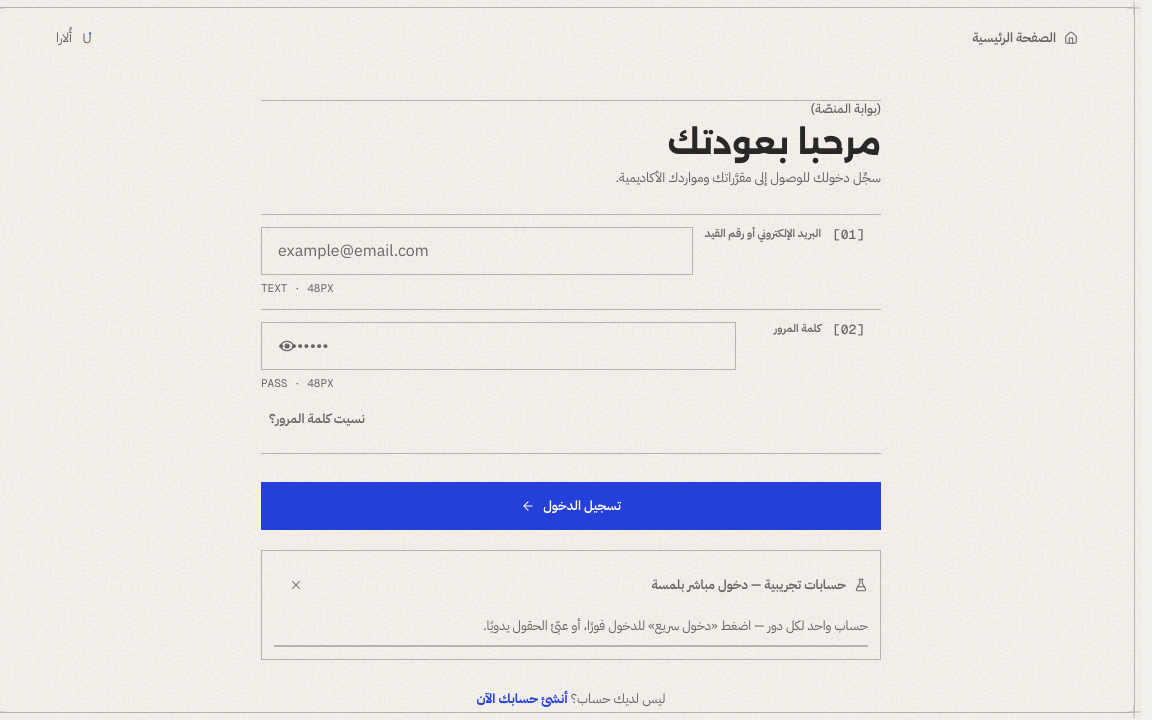
Test: AuthPage — journey alignment (imm-5) › the password visibility toggle flips type, pressed state and label
The width and height of the screenshot is (1152, 720).
Click the button named "إظهار كلمة المرور": click(287, 346) top-left (265, 324), bottom-right (309, 368)
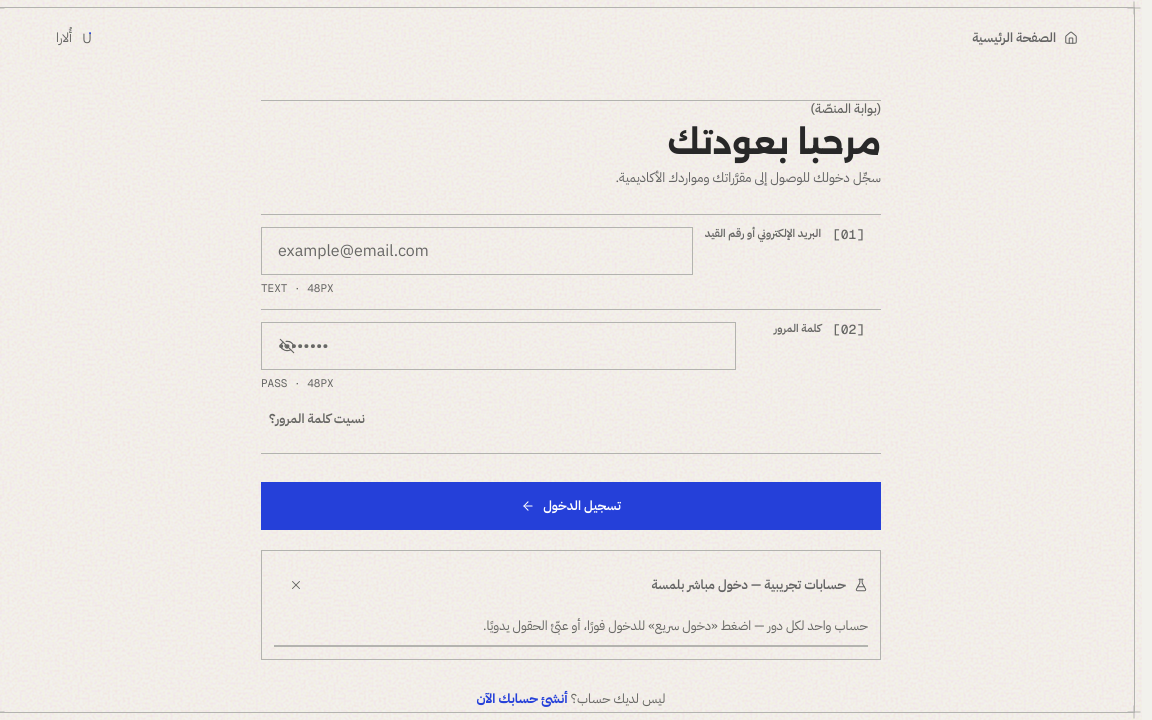
Check: the button named "إظهار كلمة المرور" is pressed, box top-left (265, 324), bottom-right (309, 368)
